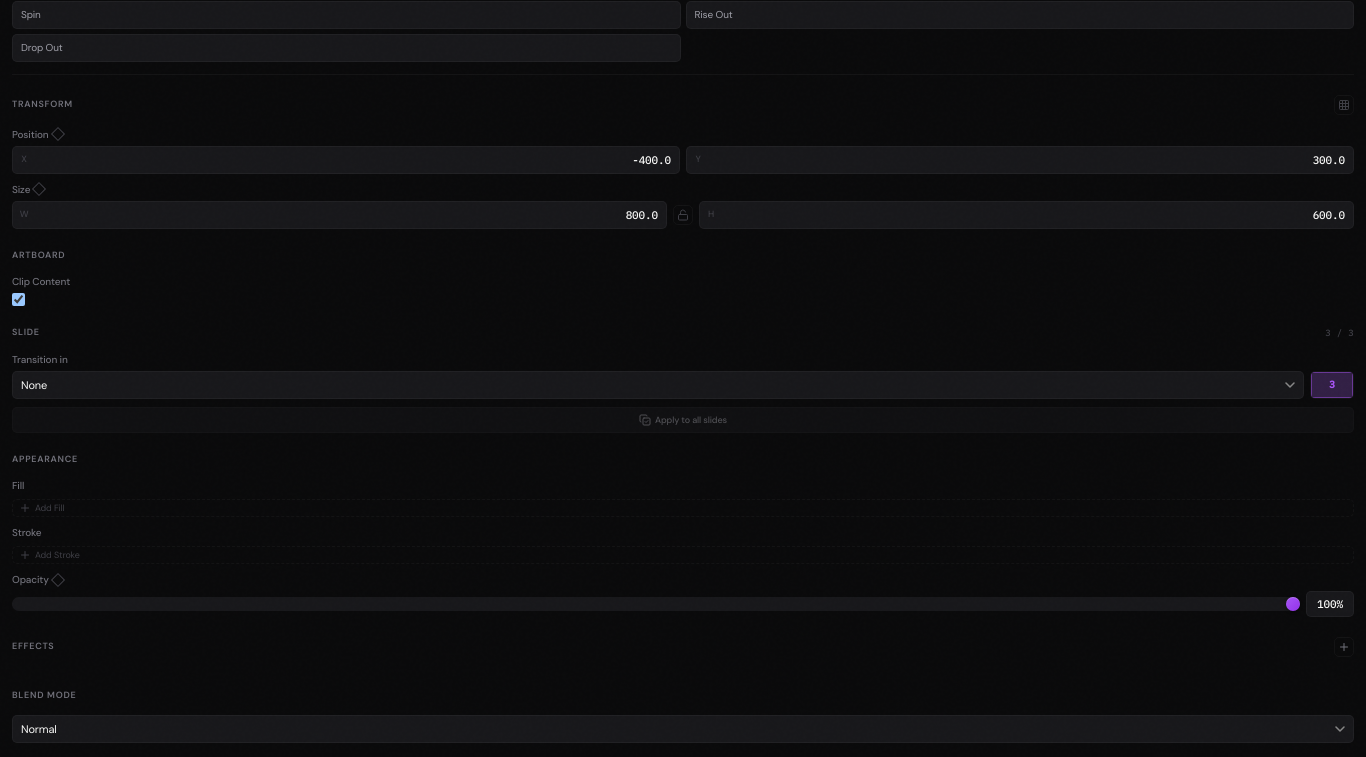
Scenario: the Slide section › sets the duration in seconds, kept within bounds, with ↑/↓ by a tenth
(page scrolled)
Select "Wipe" in the dropdown with test id "slide-transition" at coordinates (658, 384), box 12,370 -> 1304,398
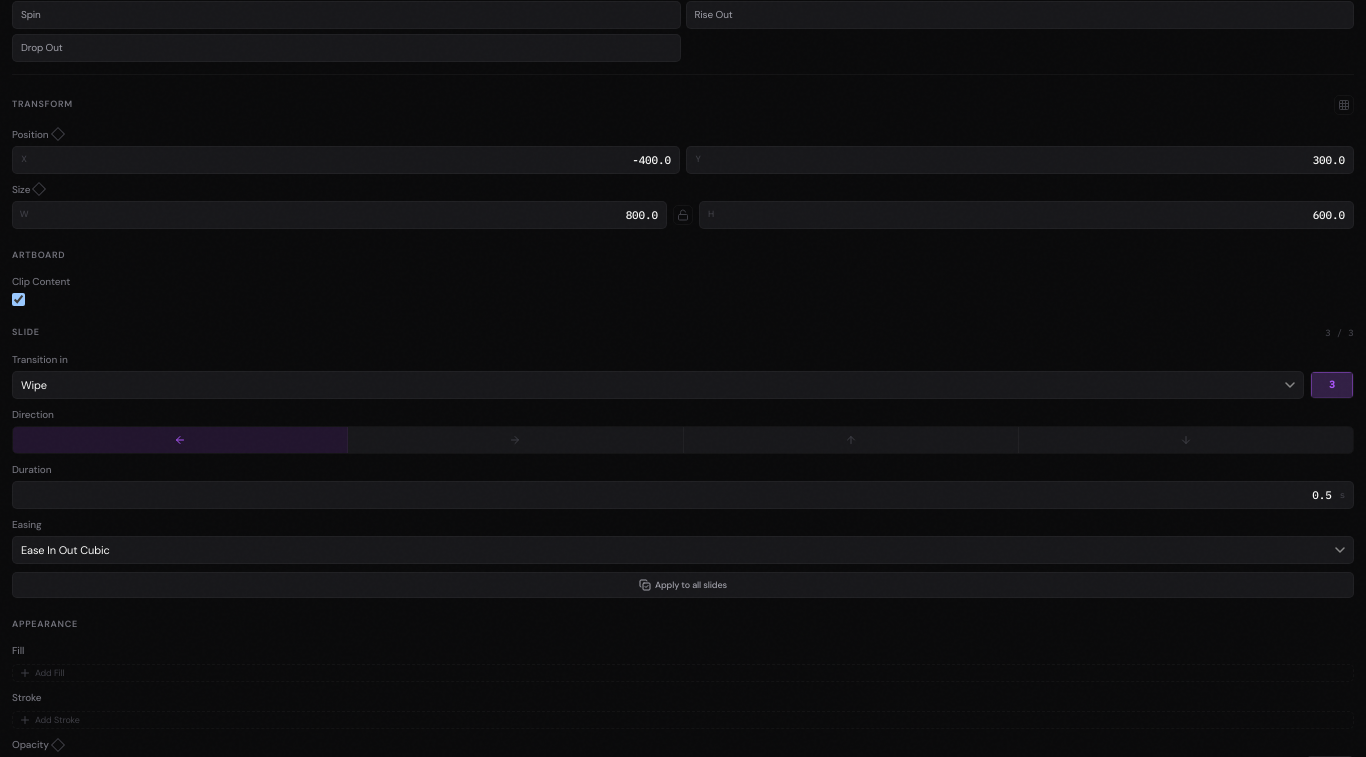
Replace the text in the field with test id "slide-transition-duration" with "1.25" at coordinates (676, 494), box 13,482 -> 1340,508
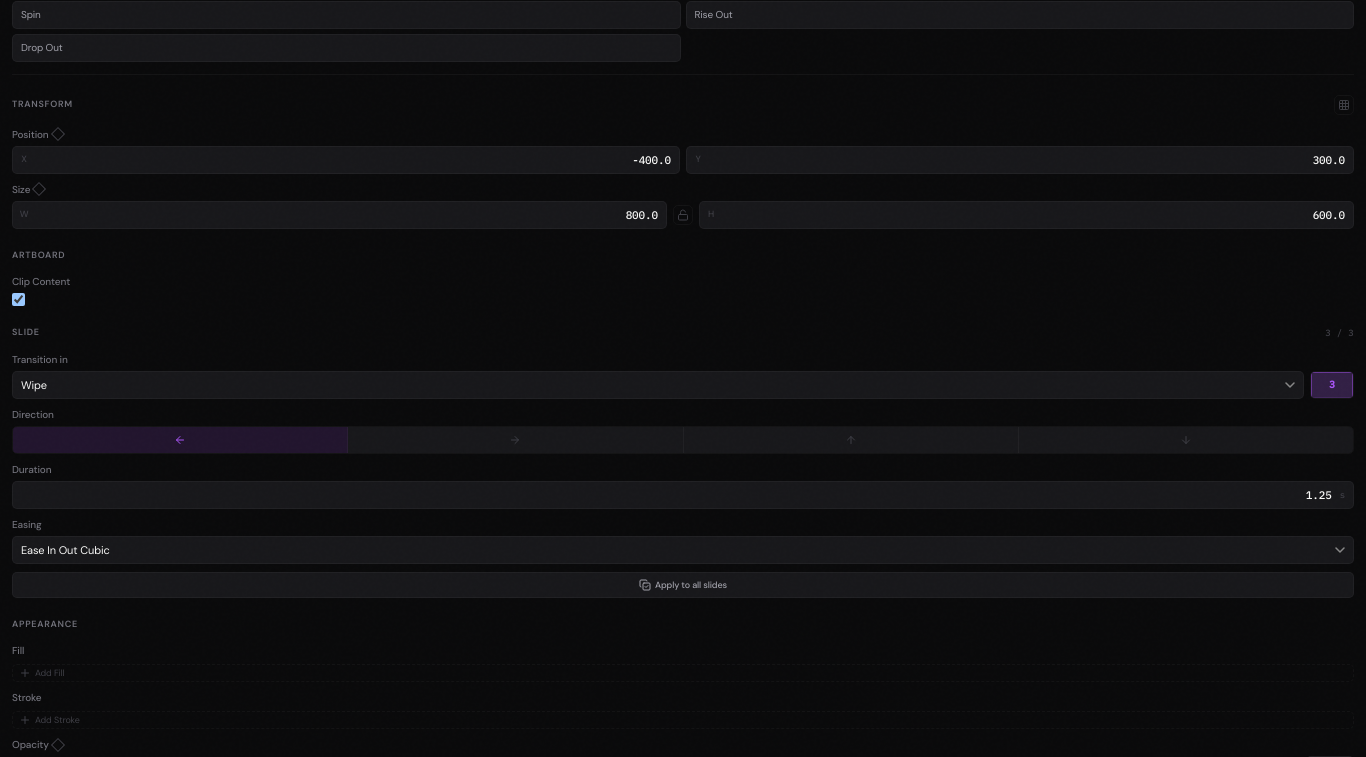
Press Enter in the field with test id "slide-transition-duration", box 13,482 -> 1340,508
Press ArrowUp in the field with test id "slide-transition-duration", box 13,482 -> 1340,508
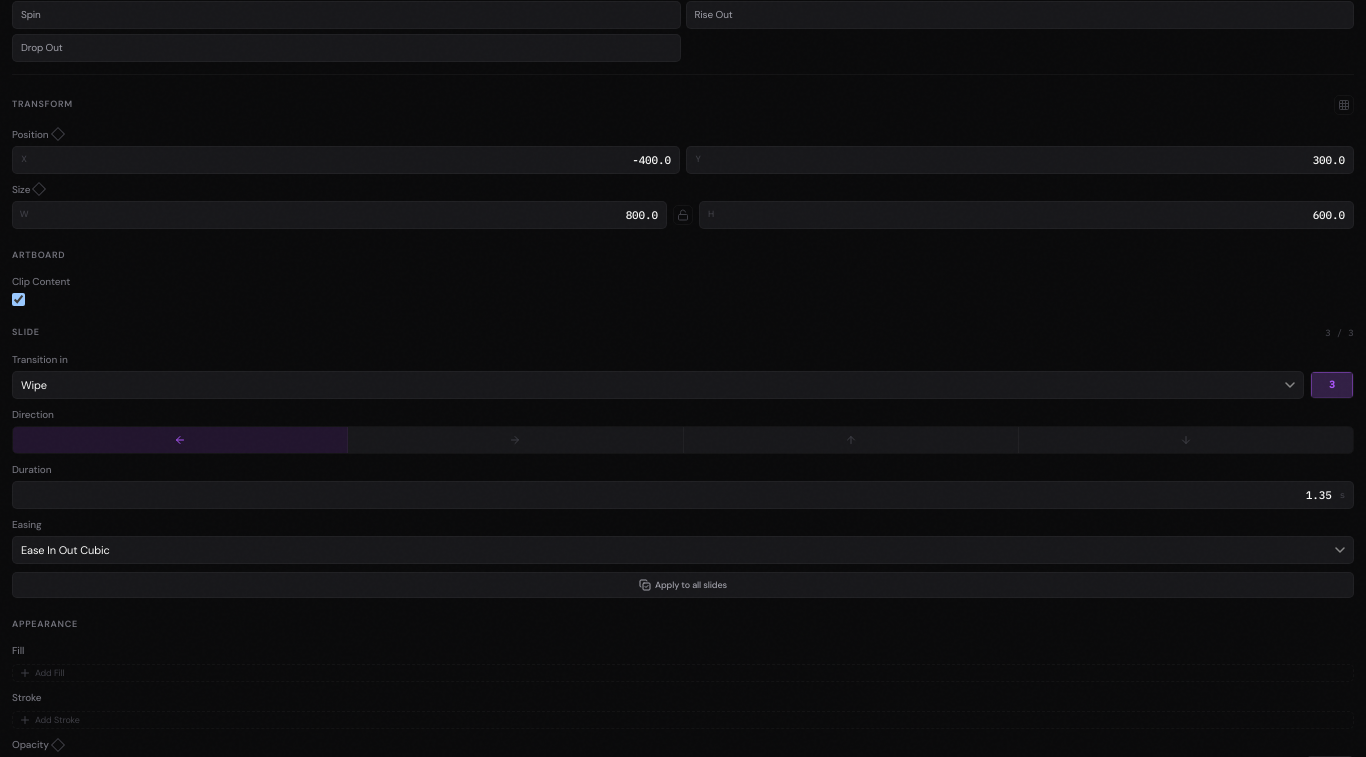
Replace the text in the field with test id "slide-transition-duration" with "99" at coordinates (676, 494), box 13,482 -> 1340,508
Leave the field with test id "slide-transition-duration", box 13,482 -> 1340,508
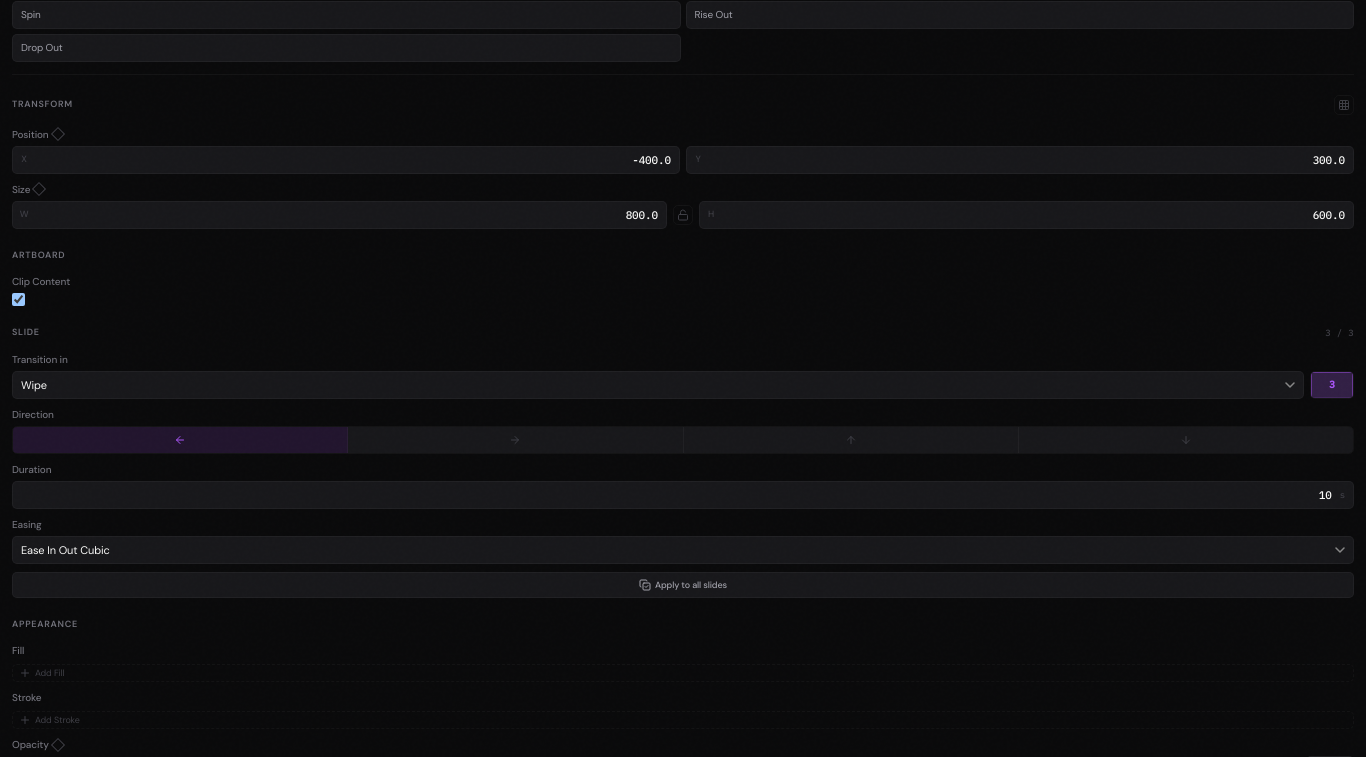
Now the field with test id "slide-transition-duration" holds "10"
# Something that isn't a number: put back
Replace the text in the field with test id "slide-transition-duration" with "soon" at coordinates (676, 494), box 13,482 -> 1340,508
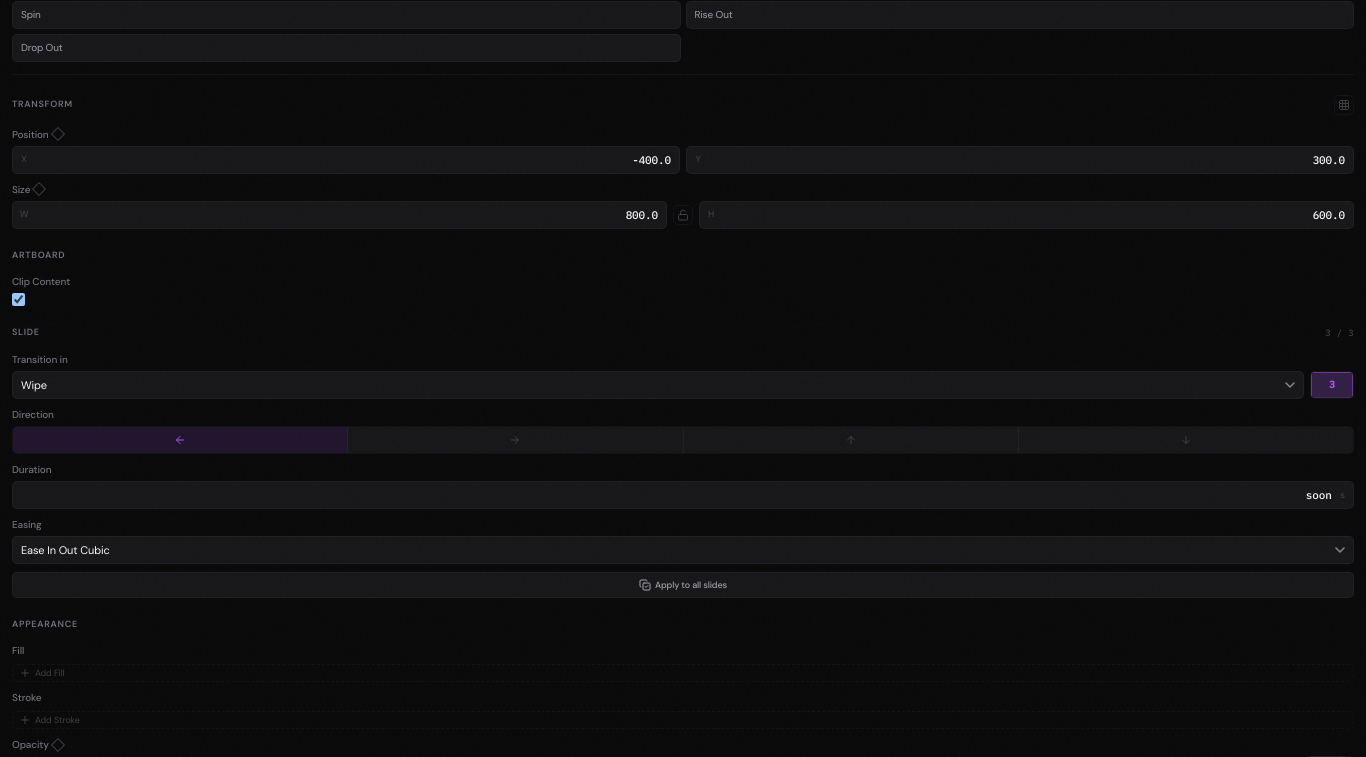
Leave the field with test id "slide-transition-duration", box 13,482 -> 1340,508
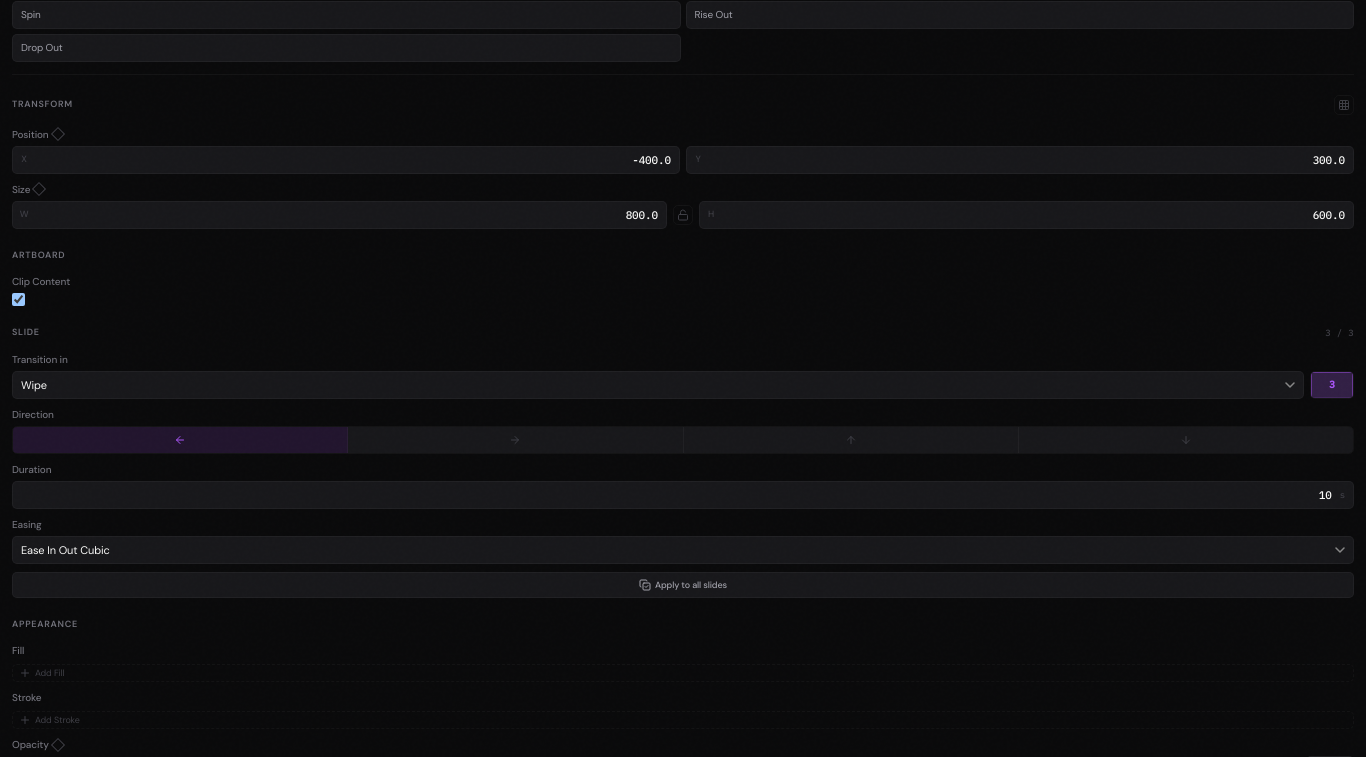
Now the field with test id "slide-transition-duration" holds "10", box 13,482 -> 1340,508
